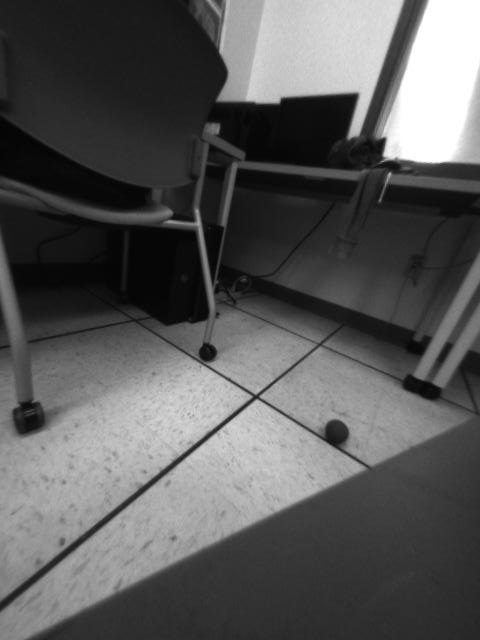dogtoy: (321, 411, 358, 453)
